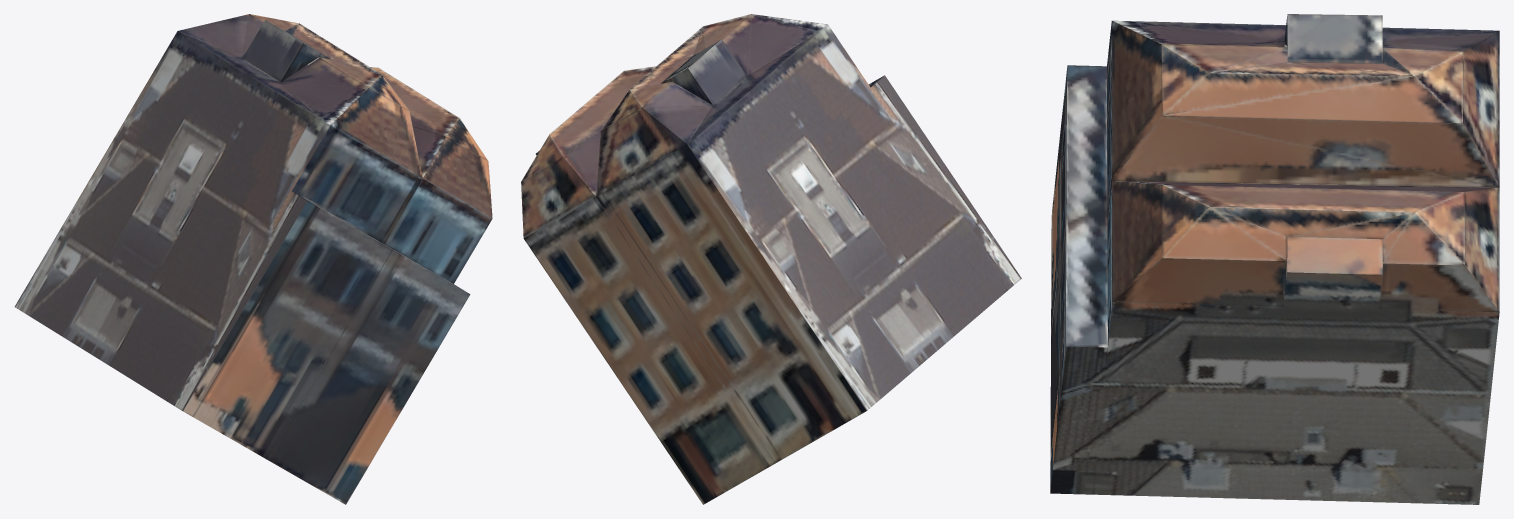
3 renders of one model, left to right at view 1: azimuth 30°, elevation 25°; view 2: azimuth 150°, elevation 25°; view 3: azimuth 270°, elevation 25°, orthographic. The views are drawn at different scales.
Visible parts, largest first — view 1: BAG_0599100000688745 (×6); view 2: BAG_0599100000688745 (×6); view 3: BAG_0599100000688745 (×7).
Part boxes in pixels (bbox=[...]): BAG_0599100000688745 (×6): bbox=[14, 14, 492, 504]; BAG_0599100000688745 (×6): bbox=[521, 14, 1021, 504]; BAG_0599100000688745 (×7): bbox=[1050, 14, 1499, 504].
Bounding box in the file's own units: 17.38 × 17.94 × 13.89.
1 material, 1 textured.
